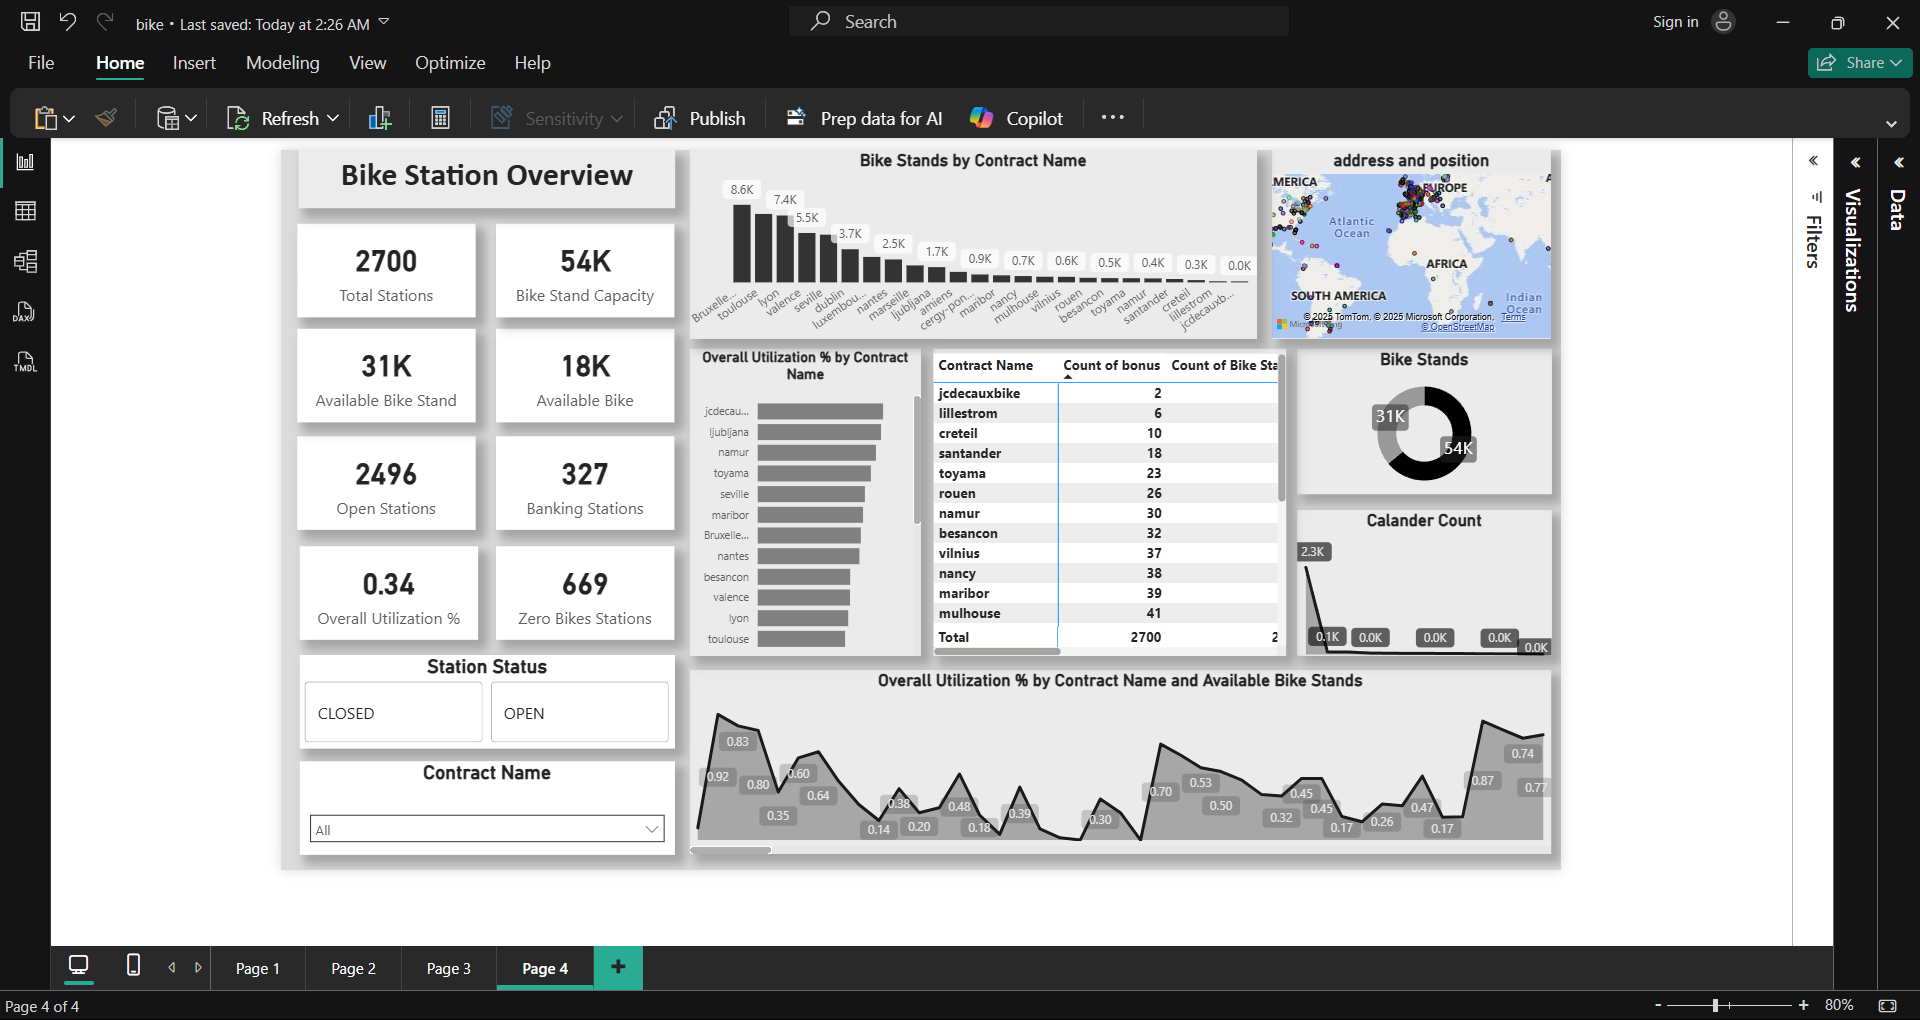

This screenshot's page, from the dashboard's own definition file:
{"tool":"powerbi","page":{"name":"Page 4","canvas":[1280,720],"ordinal":3},"visuals":[{"type":"card","fields":{"Values":["Feuil1.Available Bike"]},"box":[215,178.3,178.3,93.3],"z":0},{"type":"card","fields":{"Values":["Feuil1.Total Stations"]},"box":[16.7,286.7,178.3,93.3],"z":1},{"type":"card","fields":{"Values":["Feuil1.Total Stations"]},"box":[16.7,73.3,178.3,93.3],"z":2},{"type":"card","fields":{"Values":["Feuil1.Bike Capacity"]},"box":[215,73.3,178.3,93.3],"z":3},{"type":"card","fields":{"Values":["Feuil1.Overall Utilization %"]},"box":[18.3,396.7,178.3,93.3],"z":4},{"type":"card","fields":{"Values":["Feuil1.Total Bike Stands"]},"box":[16.7,178.3,178.3,93.3],"z":5},{"type":"card","fields":{"Values":["Feuil1.Banking Stations"]},"box":[215,286.7,178.3,93.3],"z":6},{"type":"textbox","box":[17.1,0,377.1,58.6],"z":7},{"type":"card","fields":{"Values":["Feuil1.Zero Bikes Stations"]},"box":[215,396.7,178.3,93.3],"z":8},{"type":"advancedSlicerVisual","title":"Station Status","fields":{"Values":["Feuil1.status"]},"box":[18.3,505,375,93.3],"z":9},{"type":"slicer","title":"Contract Name","fields":{"Values":["Feuil1.Contract Name"]},"box":[18.3,611.7,375,93.3],"z":10},{"type":"donutChart","title":"Bike Stands","fields":{"Y":["Sum(Feuil1.Bike Stands)","Sum(Feuil1.Available Bike Stands)"]},"box":[991.2,198.8,278.8,145],"z":11},{"type":"map","fields":{"Category":["Feuil1.address"],"Series":["Feuil1.position"]},"box":[991.4,0,278.6,188.6],"z":12},{"type":"barChart","fields":{"Category":["Feuil1.Contract Name"],"Y":["Feuil1.Overall Utilization %"]},"box":[408.6,198.6,231.4,307.1],"z":13},{"type":"lineStackedColumnComboChart","title":" Bike Stands by Contract Name","fields":{"Category":["Feuil1.Contract Name"],"Y":["Sum(Feuil1.Bike Stands)"]},"box":[408.6,0,567.1,188.6],"z":14},{"type":"stackedAreaChart","fields":{"Category":["Feuil1.Contract Name","Feuil1.Available Bike Stands"],"Y":["Feuil1.Overall Utilization %"]},"box":[408.6,520,861.4,184.3],"z":15},{"type":"pivotTable","fields":{"Rows":["Feuil1.Contract Name"],"Values":["CountNonNull(Feuil1.bonus)","CountNonNull(Feuil1.Bike Stands)","CountNonNull(Feuil1.banking)","Feuil1.Overall Utilization %","Min(Feuil1.status)"]},"box":[652.5,198.8,323.8,307.5],"z":16},{"type":"areaChart","title":"Calander Count","fields":{"Category":["Feuil1 (2).Last Update.1"],"Y":["Sum(Feuil1 (2).Count)"]},"box":[991.2,352.5,278.8,153.8],"z":17}]}

Visuals, with their boxes on the page's 1280x720 design canvas (x1, y1, x2, y2). These are canvas units, not pixel positions in the 1920x1020 screenshot, which may show the page scaled, cropped or inside an application window:
card - Feuil1.Available Bike: [215,178,393,272]
card - Feuil1.Total Stations: [17,287,195,380]
card - Feuil1.Total Stations: [17,73,195,167]
card - Feuil1.Bike Capacity: [215,73,393,167]
card - Feuil1.Overall Utilization %: [18,397,197,490]
card - Feuil1.Total Bike Stands: [17,178,195,272]
card - Feuil1.Banking Stations: [215,287,393,380]
textbox: [17,0,394,59]
card - Feuil1.Zero Bikes Stations: [215,397,393,490]
"Station Status" advancedSlicerVisual: [18,505,393,598]
"Contract Name" slicer: [18,612,393,705]
"Bike Stands" donutChart: [991,199,1270,344]
map - Feuil1.address x Feuil1.position: [991,0,1270,189]
barChart - Feuil1.Contract Name x Feuil1.Overall Utilization %: [409,199,640,506]
" Bike Stands by Contract Name" lineStackedColumnComboChart: [409,0,976,189]
stackedAreaChart - Feuil1.Contract Name x Feuil1.Available Bike Stands: [409,520,1270,704]
pivotTable - Feuil1.Contract Name x CountNonNull(Feuil1.bonus): [652,199,976,506]
"Calander Count" areaChart: [991,352,1270,506]
